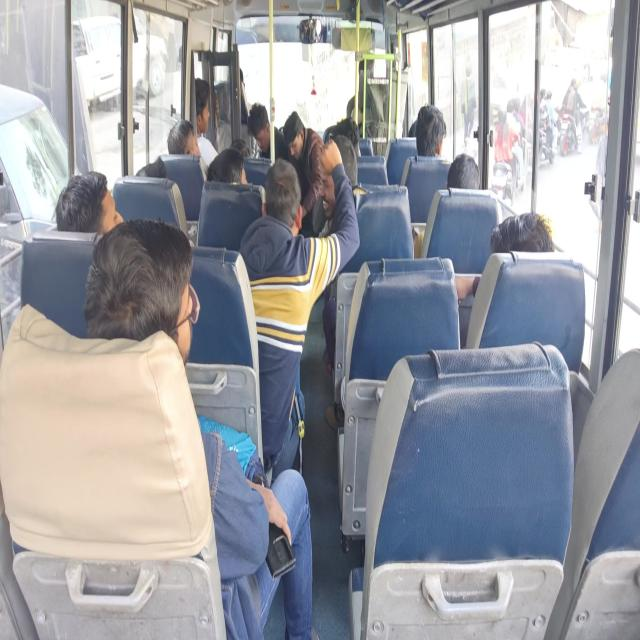person: (84, 216, 201, 368), (38, 138, 123, 266), (254, 144, 311, 257), (488, 209, 558, 293), (309, 150, 354, 227), (345, 59, 385, 132), (202, 156, 245, 214), (165, 106, 202, 172), (132, 155, 172, 213), (446, 148, 481, 214), (408, 125, 448, 169), (191, 82, 220, 142), (220, 50, 241, 116), (247, 105, 273, 152), (245, 96, 277, 134), (284, 110, 306, 160)
